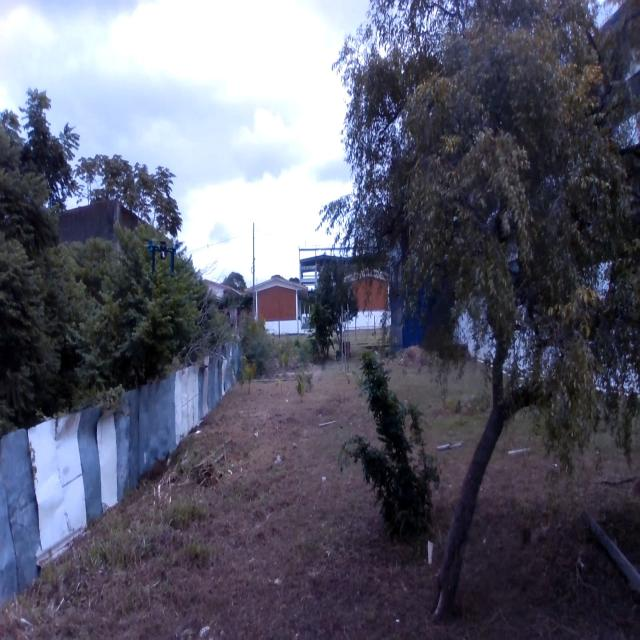-uav-: (138, 221, 184, 274)
